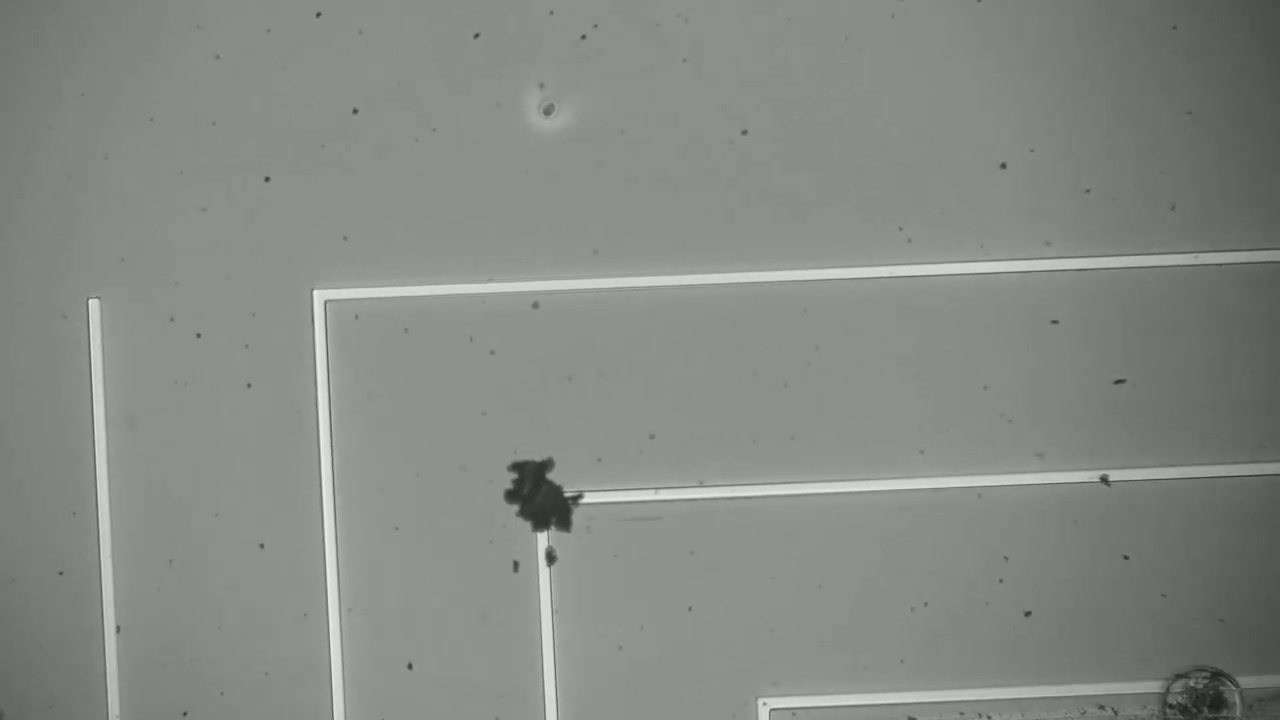stains_enbedded: (491, 446, 587, 549)
